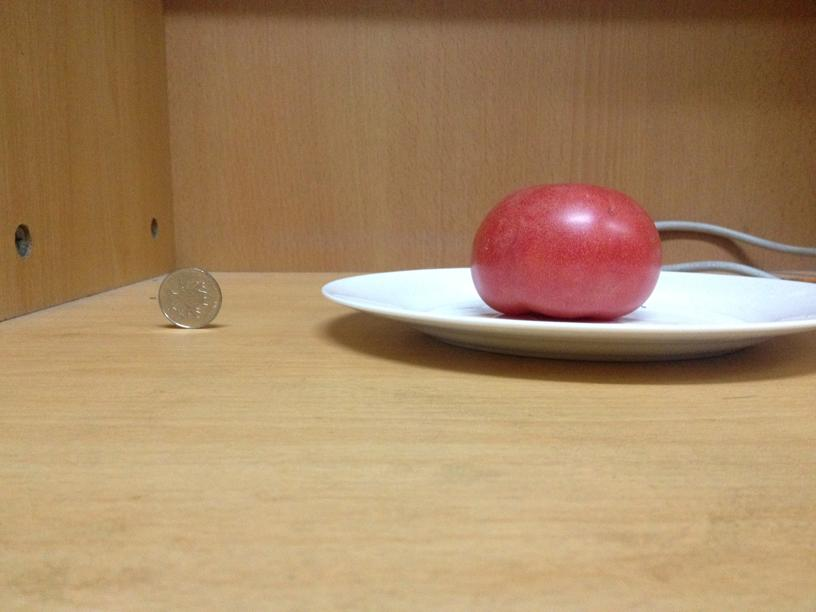coin: (155, 267, 221, 328)
tomato: (463, 183, 663, 320)
